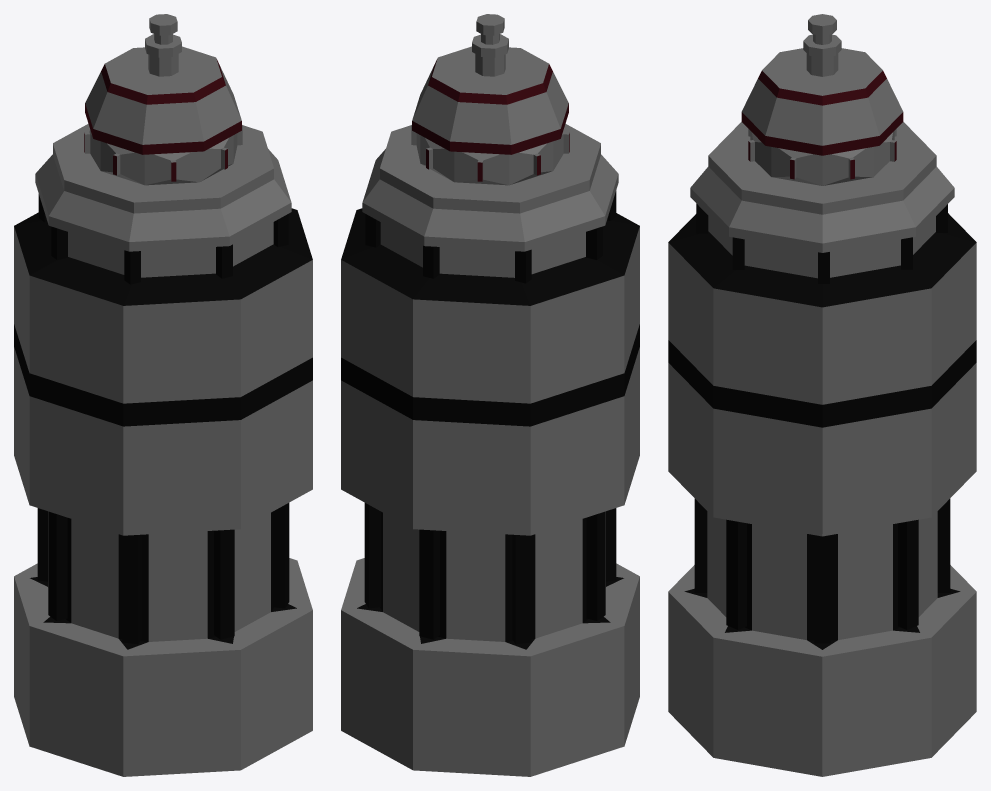
File: Background_House_1.fbx
3 renders of one model, left to right at view 1: azimuth 30°, elevation 25°; view 2: azimuth 150°, elevation 25°; view 3: azimuth 270°, elevation 25°, orthographic.
Visible parts, largest first — view 1: Cylinder; view 2: Cylinder; view 3: Cylinder.
Part boxes in pixels (x1=…): Cylinder: x1=14, y1=14, x2=312, y2=776; Cylinder: x1=341, y1=14, x2=639, y2=776; Cylinder: x1=668, y1=14, x2=976, y2=776.
Bounding box in the file's own units: 2400 × 5938 × 2400.
